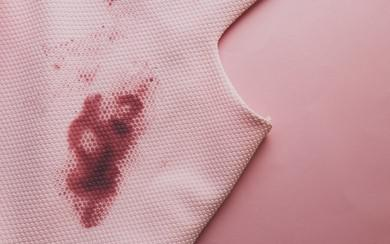gun: (64, 64, 155, 231)
